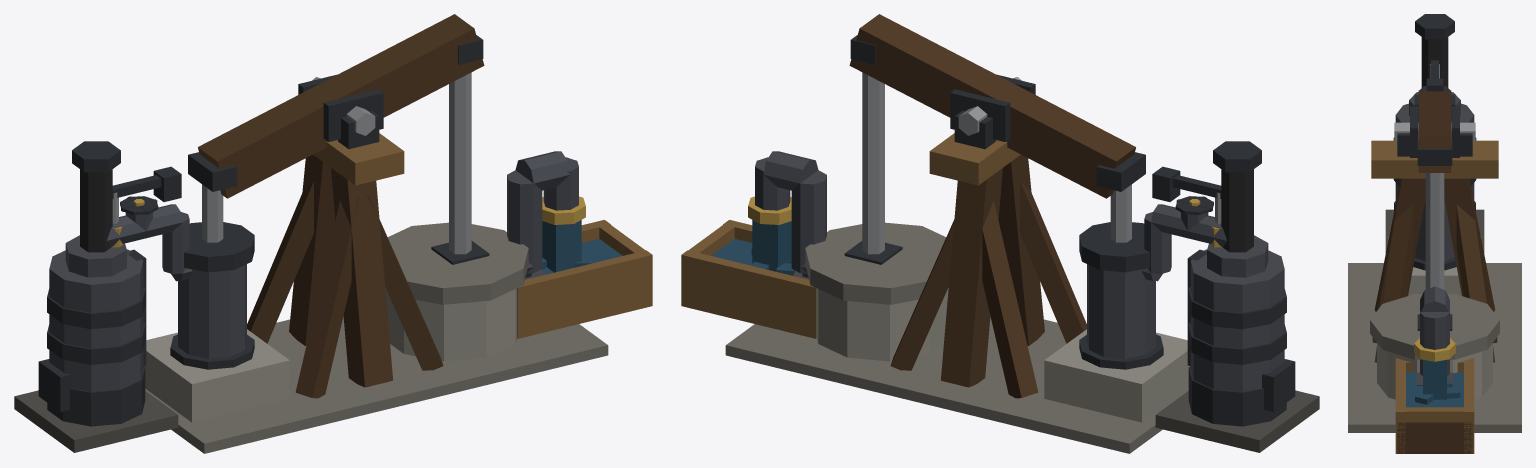
File: water_pump.glb
The picture shows the model from 3 angles, left to right: view 1: azimuth 30°, elevation 25°; view 2: azimuth 150°, elevation 25°; view 3: azimuth 270°, elevation 25°; orthographic projection. The views are drawn at different scales.
Parts seen in each view (by area): view 1: Cube, Cube.010, Cube.001, Cylinder.010, Cube.013, Cube.034, Cylinder.001, Cylinder, Cylinder.004, Cube.002, Cube.004, Cube.017 (+29 smaller); view 2: Cube, Cube.010, Cube.004, Cylinder.010, Cube.013, Cylinder.001, Cube.035, Cylinder, Cylinder.004, Cube.005, Cube.001, Cube.017 (+29 smaller); view 3: Cube, Cylinder.001, Cube.007, Cube.033, Cylinder.008, Cube.010, Cylinder, Cube.003, Cube.006, Cube.001, Cube.004, Cylinder.028 (+21 smaller).
Part boxes in pixels (x1,y1,x2,y2): Cube: (145,316,608,453); Cube.010: (198,14,484,198); Cube.001: (331,168,392,387); Cylinder.010: (49,249,143,391); Cube.013: (144,329,289,422); Cube.034: (517,250,652,338); Cylinder.001: (388,222,528,304); Cylinder: (385,287,517,361); Cylinder.004: (178,264,246,358); Cube.002: (295,197,359,398); Cube.004: (289,154,335,345); Cube.017: (14,390,178,452); Cube: (725,316,1188,453); Cube.010: (849,14,1135,198); Cube.004: (941,168,1002,387); Cylinder.010: (1190,249,1284,391); Cube.013: (1044,329,1189,422); Cylinder.001: (805,222,945,304); Cube.035: (681,250,816,338); Cylinder: (816,287,948,361); Cylinder.004: (1087,264,1155,358); Cube.005: (974,197,1038,398); Cube.001: (998,154,1044,345); Cube.017: (1155,390,1319,452); Cube: (1348,263,1521,432); Cylinder.001: (1370,294,1499,359); Cube.007: (1371,140,1498,178); Cube.033: (1397,422,1472,453); Cylinder.008: (1425,173,1444,289); Cube.010: (1418,91,1451,172); Cylinder: (1377,343,1492,399); Cube.003: (1374,194,1413,362); Cube.006: (1456,194,1495,362); Cube.001: (1372,178,1425,343); Cube.004: (1444,178,1497,343); Cylinder.028: (1420,311,1449,349).
Bounding box in the file's own units: 95.5 × 49.6 × 30.
